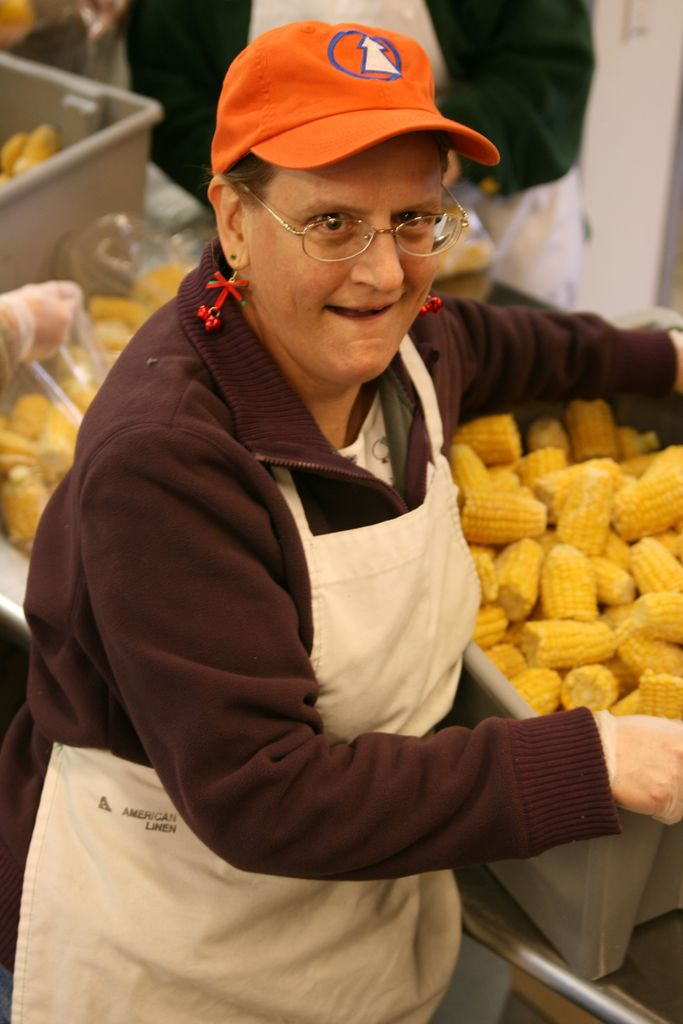Person: (0, 18, 683, 1023)
